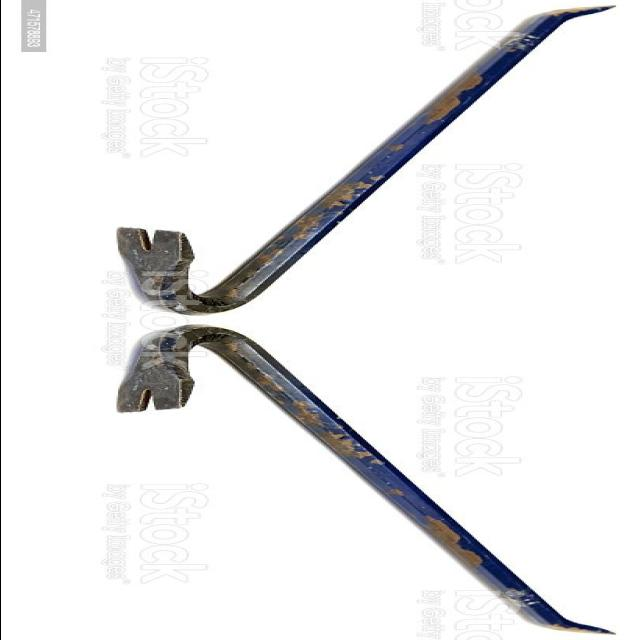Linggis: (118, 6, 622, 316)
